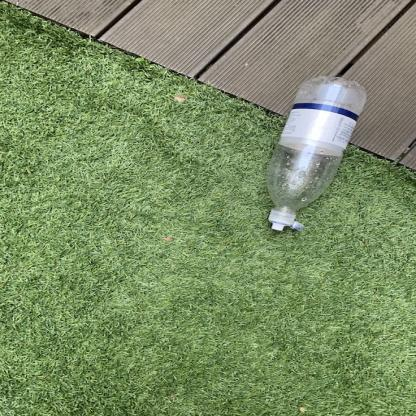trash: (265, 77, 366, 234)
